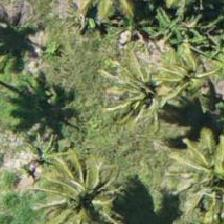coconut_tree: (103, 53, 193, 143), (32, 153, 122, 223), (159, 122, 223, 212)
